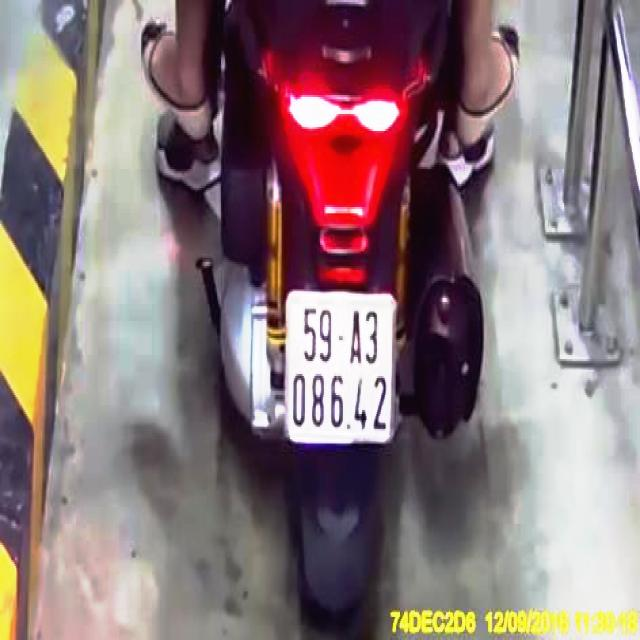license_plate: (291, 294, 392, 441)
